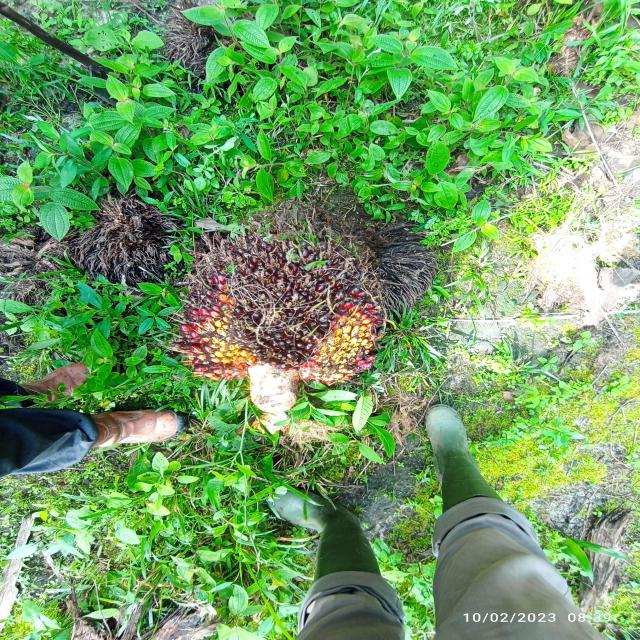fraksi 00: (152, 199, 426, 384)
